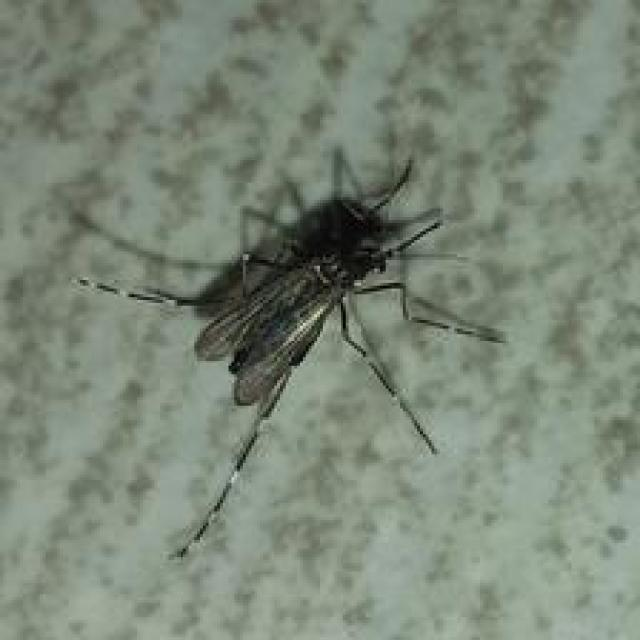Aedes albopictus: (69, 144, 508, 562)
